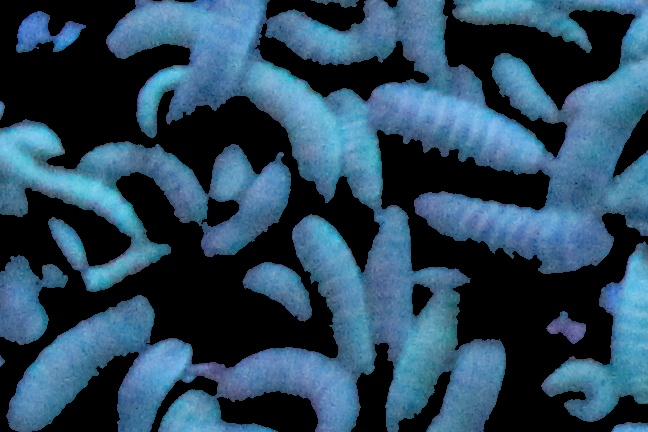larvae: (6, 295, 154, 432), (1, 120, 143, 236), (415, 188, 613, 269), (372, 82, 545, 172), (548, 62, 648, 211), (290, 218, 378, 376), (245, 59, 342, 202), (221, 346, 361, 432), (171, 3, 266, 119), (386, 291, 462, 432), (77, 143, 206, 224), (203, 153, 291, 259), (429, 336, 511, 432), (115, 338, 196, 431), (366, 204, 417, 343), (325, 88, 383, 204), (452, 3, 591, 51), (610, 243, 648, 406), (266, 12, 371, 66), (106, 2, 206, 58), (542, 354, 618, 422), (238, 258, 314, 321), (81, 241, 172, 292), (493, 52, 558, 119), (135, 67, 192, 137), (397, 1, 450, 70), (209, 140, 251, 222), (45, 216, 90, 269)
